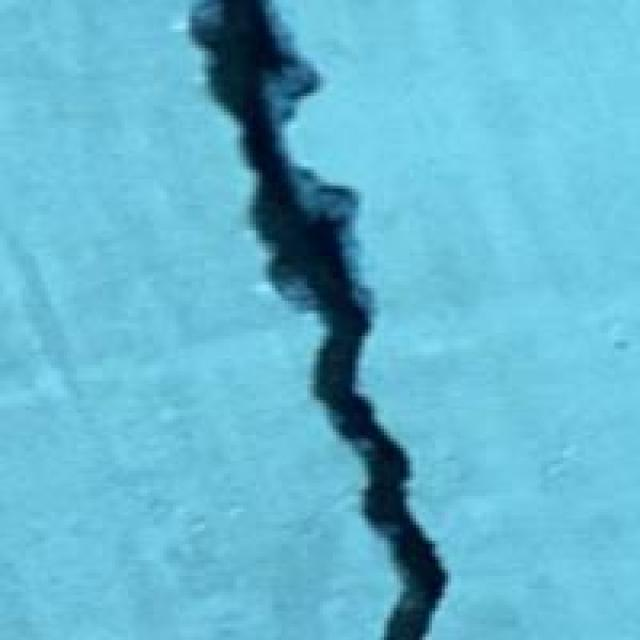Crack: (141, 0, 464, 637)
